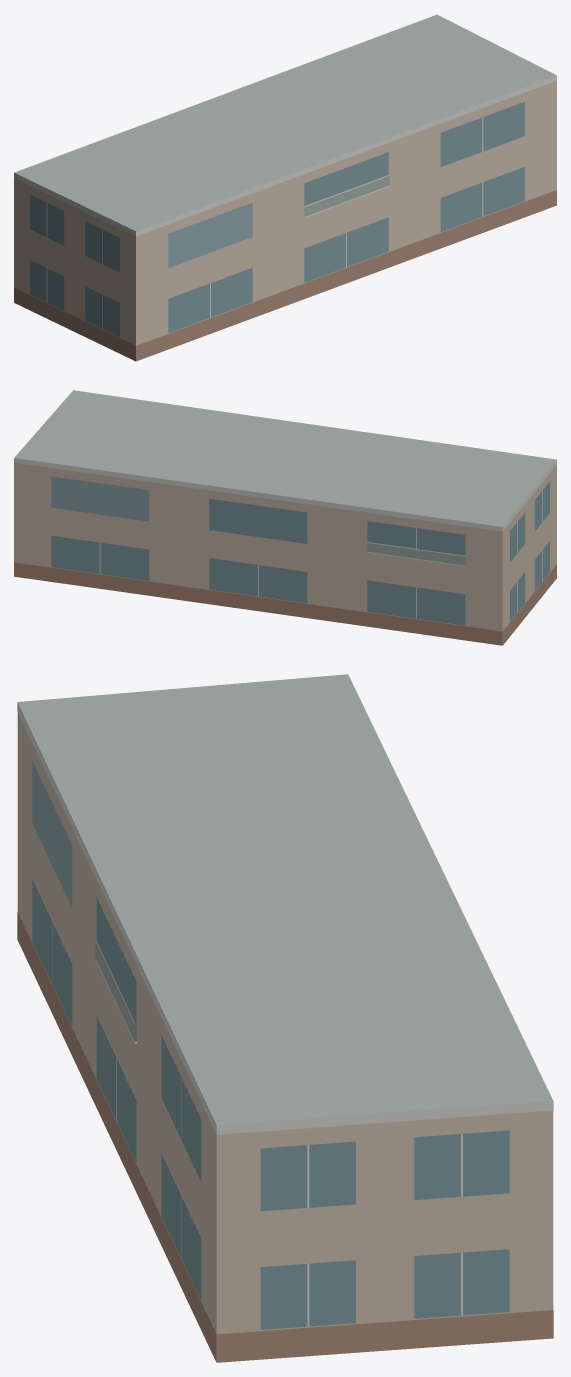
File: survey-upis-32936800.glb
The picture shows the model from 3 angles, top to bottom: view 1: azimuth 30°, elevation 25°; view 2: azimuth 150°, elevation 25°; view 3: azimuth 270°, elevation 25°; orthographic projection. The views are drawn at different scales.
Visible parts, largest first — view 1: survey-upis-32936800.tmp; view 2: survey-upis-32936800.tmp; view 3: survey-upis-32936800.tmp.
Boxes of the visible parts, x1,y1,x2,y2 form: survey-upis-32936800.tmp: (14,14,556,361); survey-upis-32936800.tmp: (14,390,556,645); survey-upis-32936800.tmp: (17,674,553,1362).
Size of the model in its own units: 24.87 by 6.1 by 12.49.
